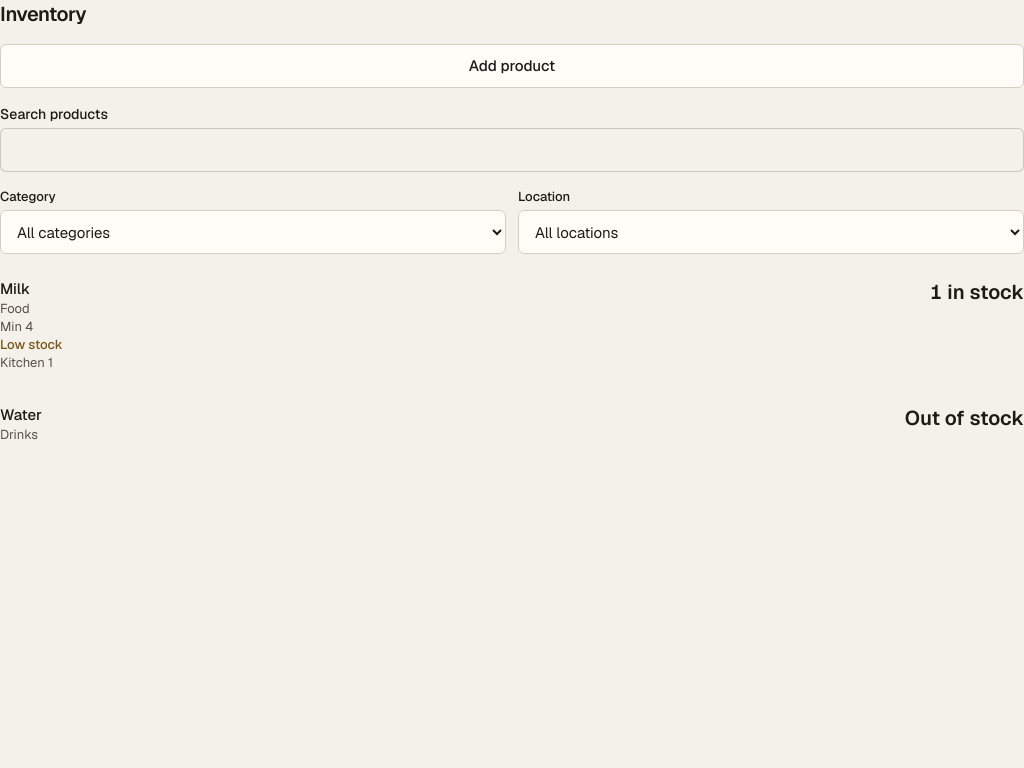
Scenario: InventoryOverviewScreen › keeps the dialog open when createProduct fails
Expected: the link "Milk" is shown, [0,270,1023,380]
Click the button "Add product": [512, 66] box [0,44,1023,88]
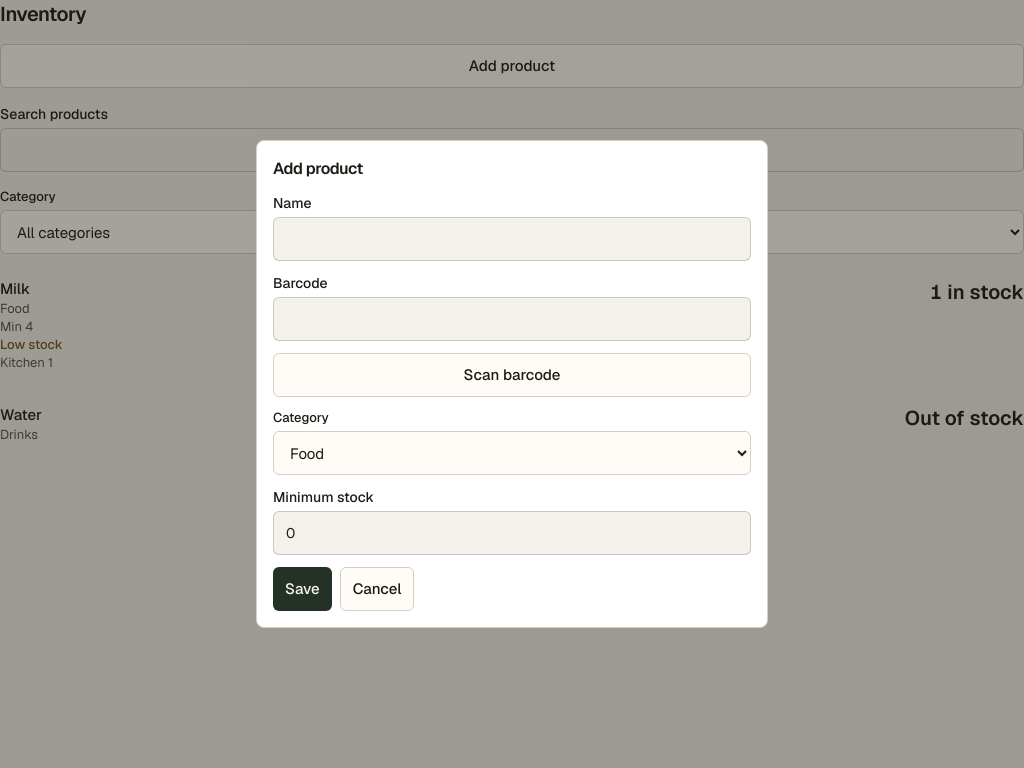
In the field labelled "Name": [512, 239] box [273,217,751,261], type "Milk"
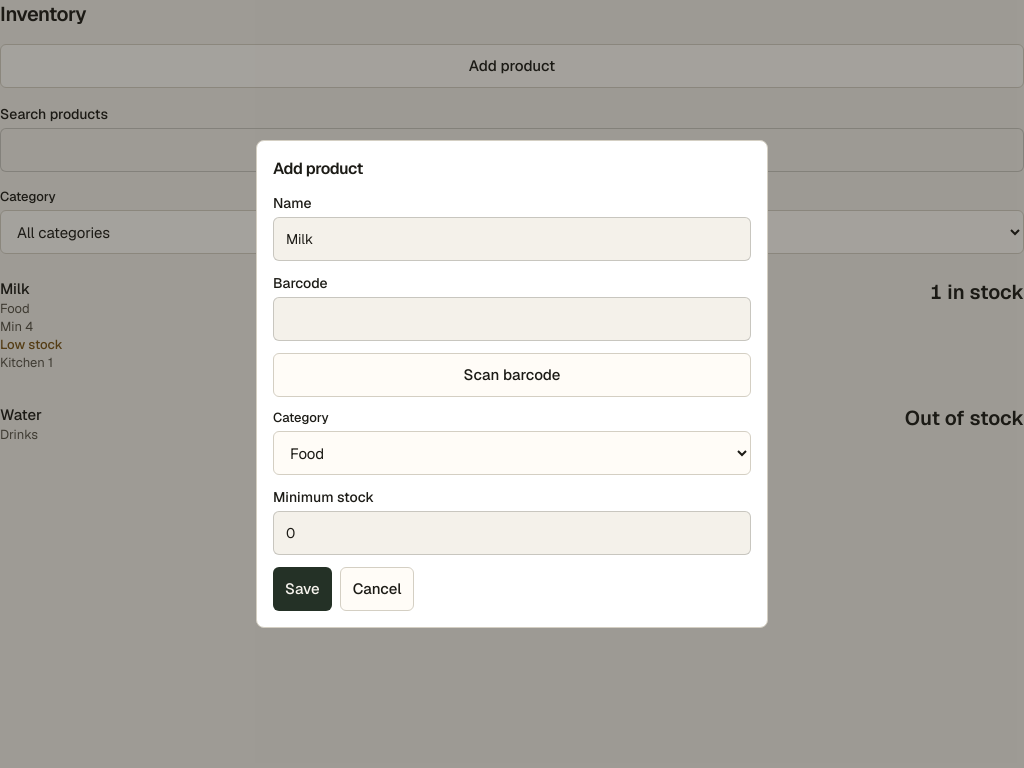
Submit the form "Save", box [273,193,751,611]
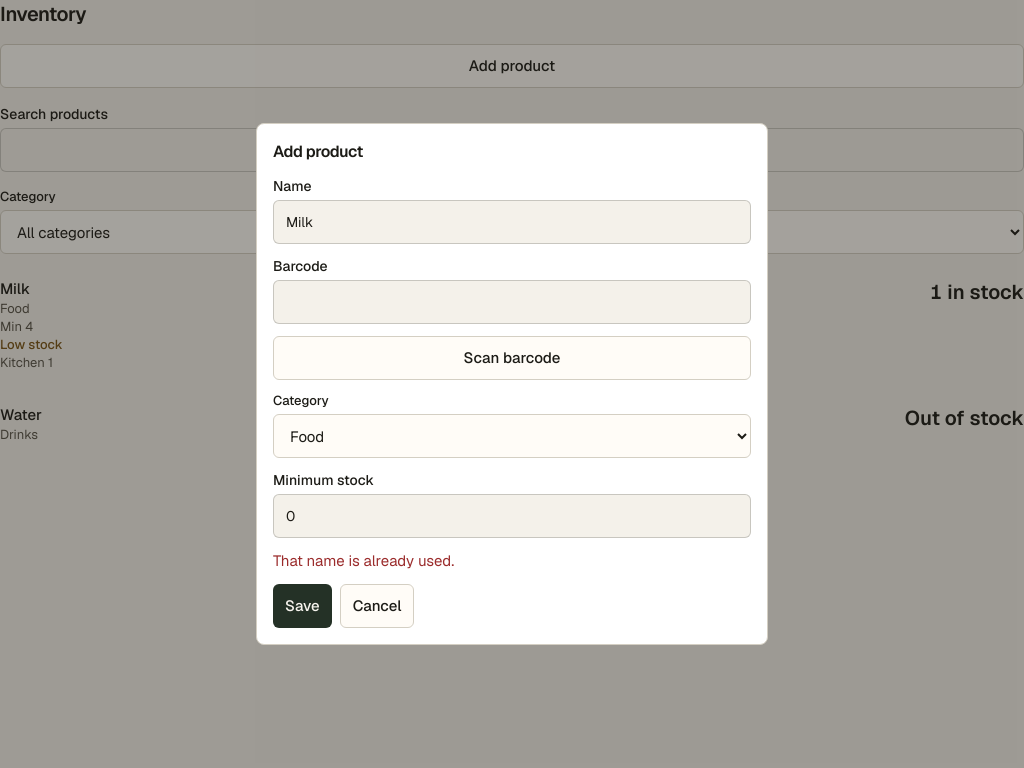
Result: the dialog "Add product" is shown at [256,123,768,645]
Result: the message reads "That name is already used." at [273,551,454,570]
